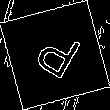P_SW: (27, 24, 83, 86)
